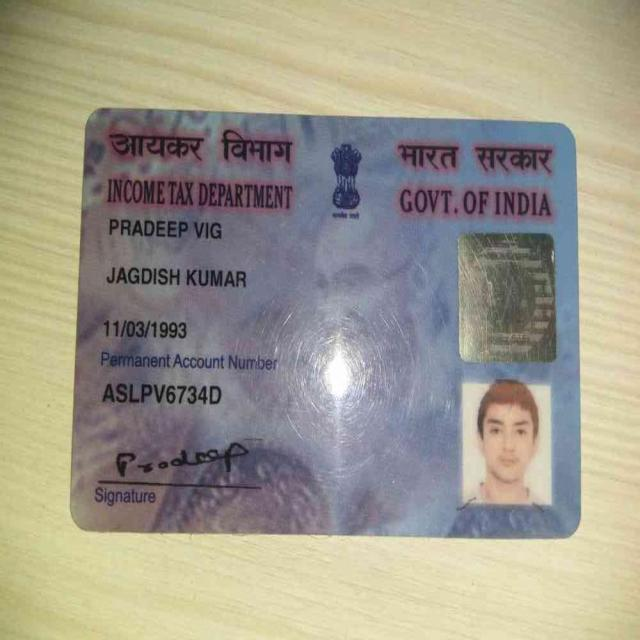pan_card: (74, 112, 577, 534)
